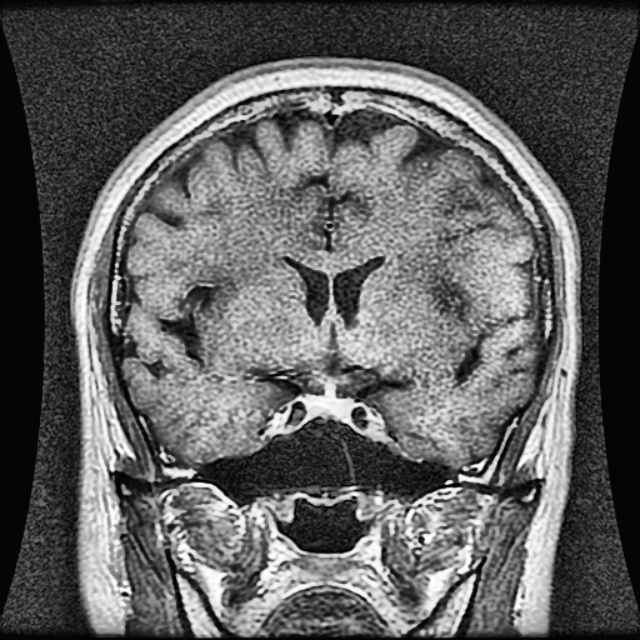Pituitary: (303, 394, 350, 417)
